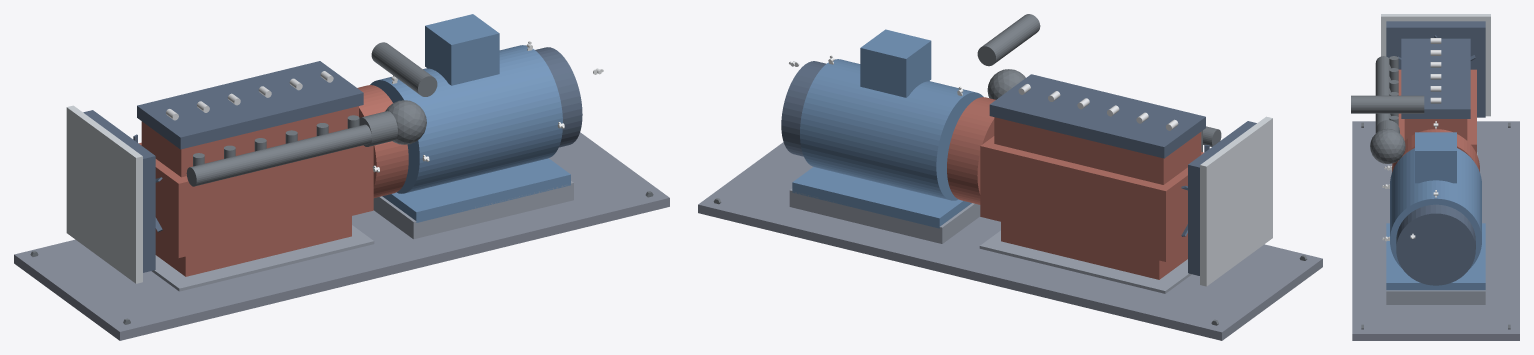
The model's file is dg-set.glb.
3 renders of one model, left to right at view 1: azimuth 30°, elevation 25°; view 2: azimuth 150°, elevation 25°; view 3: azimuth 270°, elevation 25°, orthographic. The views are drawn at different scales.
Visible parts, largest first — view 1: PART_001, CASING_ALTCASE_033, CASING_ENGINEBLOCK_006, CASING_RADIATOR_027, CASING_ROCKERCOVER_008, CASING_ALTFOOT_034, CASING_TERMBOX_035, CASING_HEAD_007, CASING_SUMP_009, CASING_MANIFOLD_022, PART_038, PART_039 (+6 smaller); view 2: PART_001, CASING_ENGINEBLOCK_006, CASING_ALTCASE_033, CASING_ROCKERCOVER_008, CASING_RADIATOR_027, CASING_HEAD_007, CASING_ALTFOOT_034, CASING_TERMBOX_035, CASING_SUMP_009, CASING_FLYWHEELHSG_030, PART_038, PART_039 (+4 smaller); view 3: PART_001, CASING_ALTCOWL_036, CASING_ROCKERCOVER_008, CASING_ALTCASE_033, CASING_RADIATOR_026, CASING_TERMBOX_035, CASING_ALTFOOT_034, CASING_RADIATOR_027, PART_038, CASING_EXHAUST_025, CASING_TURBO_024, CASING_HEAD_007 (+4 smaller).
Part boxes in pixels (x1,y1,x2,y2): PART_001: [14, 132, 669, 340]; CASING_ALTCASE_033: [370, 45, 562, 193]; CASING_ENGINEBLOCK_006: [139, 142, 373, 257]; CASING_RADIATOR_027: [66, 105, 142, 283]; CASING_ROCKERCOVER_008: [137, 61, 363, 149]; CASING_ALTFOOT_034: [382, 158, 570, 222]; CASING_TERMBOX_035: [425, 14, 499, 85]; CASING_HEAD_007: [141, 106, 358, 177]; CASING_SUMP_009: [155, 216, 351, 276]; CASING_MANIFOLD_022: [186, 124, 371, 186]; PART_038: [373, 181, 573, 239]; PART_039: [151, 225, 374, 291]; PART_001: [698, 142, 1322, 340]; CASING_ENGINEBLOCK_006: [980, 136, 1203, 261]; CASING_ALTCASE_033: [800, 59, 983, 200]; CASING_ROCKERCOVER_008: [989, 74, 1205, 158]; CASING_RADIATOR_027: [1200, 116, 1272, 286]; CASING_HEAD_007: [994, 117, 1201, 184]; CASING_ALTFOOT_034: [792, 167, 971, 228]; CASING_TERMBOX_035: [860, 29, 931, 97]; CASING_SUMP_009: [1001, 222, 1187, 279]; CASING_FLYWHEELHSG_030: [947, 97, 995, 204]; PART_038: [789, 188, 980, 243]; PART_039: [979, 230, 1191, 293]; PART_001: [1352, 121, 1519, 340]; CASING_ALTCOWL_036: [1396, 204, 1475, 285]; CASING_ROCKERCOVER_008: [1401, 38, 1470, 118]; CASING_ALTCASE_033: [1390, 148, 1481, 269]; CASING_RADIATOR_026: [1386, 21, 1485, 117]; CASING_TERMBOX_035: [1415, 132, 1456, 183]; CASING_ALTFOOT_034: [1386, 223, 1485, 290]; CASING_RADIATOR_027: [1381, 14, 1490, 116]; PART_038: [1386, 290, 1485, 304]; CASING_EXHAUST_025: [1351, 95, 1424, 113]; CASING_TURBO_024: [1370, 128, 1405, 163]; CASING_HEAD_007: [1404, 119, 1467, 140].
Size of the model in its own units: 4.8 by 1.59 by 1.61.
